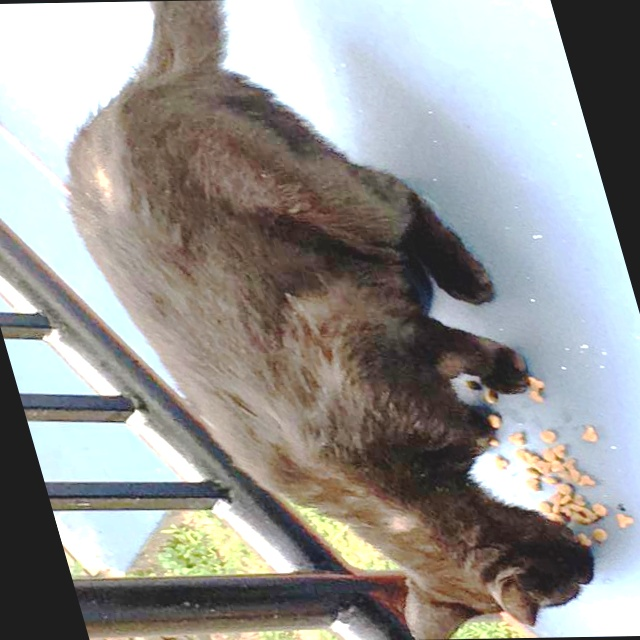hairloss: (80, 157, 122, 210), (379, 518, 415, 531)
